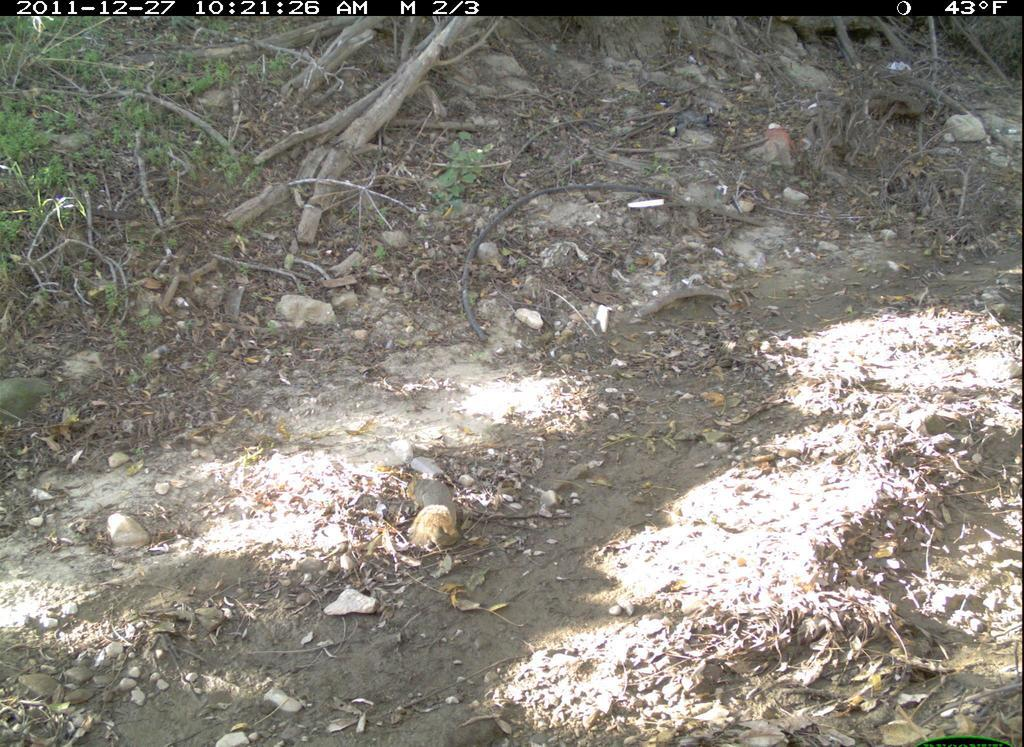squirrel: (393, 469, 469, 556)
